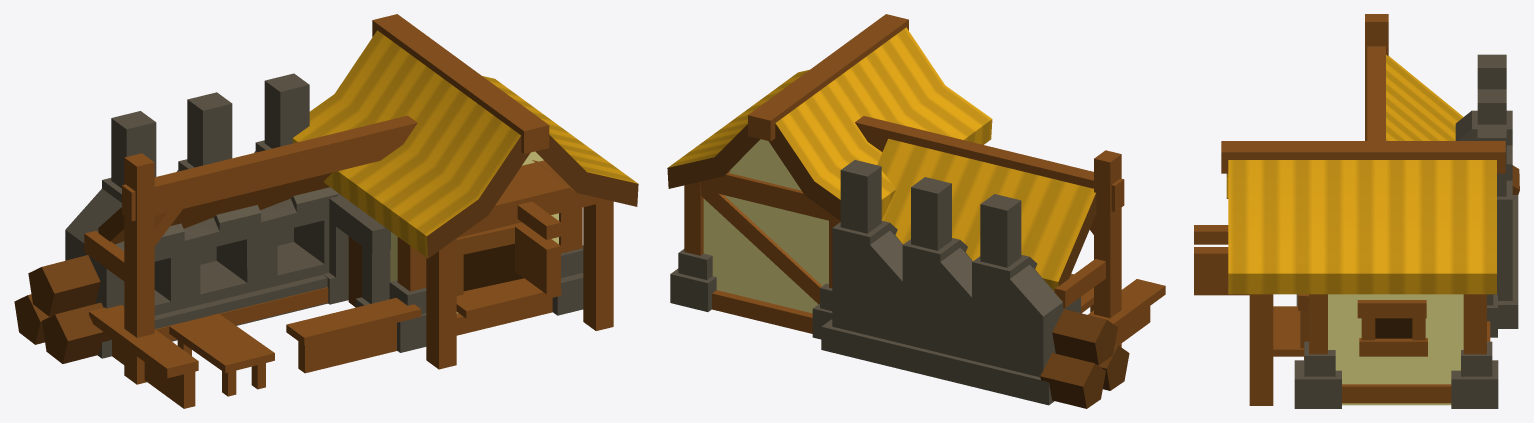
File: baker.fbx
3 renders of one model, left to right at view 1: azimuth 30°, elevation 25°; view 2: azimuth 150°, elevation 25°; view 3: azimuth 270°, elevation 25°, orthographic. The views are drawn at different scales.
Visible parts, largest first — view 1: polySurface517; view 2: polySurface517; view 3: polySurface517.
Boxes of the visible parts, x1=… form: polySurface517: x1=14, y1=14, x2=638, y2=408; polySurface517: x1=667, y1=14, x2=1165, y2=408; polySurface517: x1=1194, y1=14, x2=1519, y2=408.
Size of the model in its own units: 189 by 90.98 by 122.
1 material, 1 textured.
